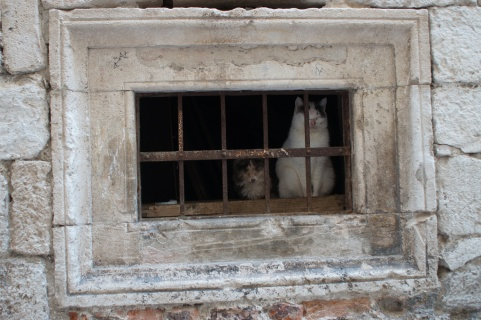Cat: (275, 95, 336, 197), (235, 157, 276, 201)
